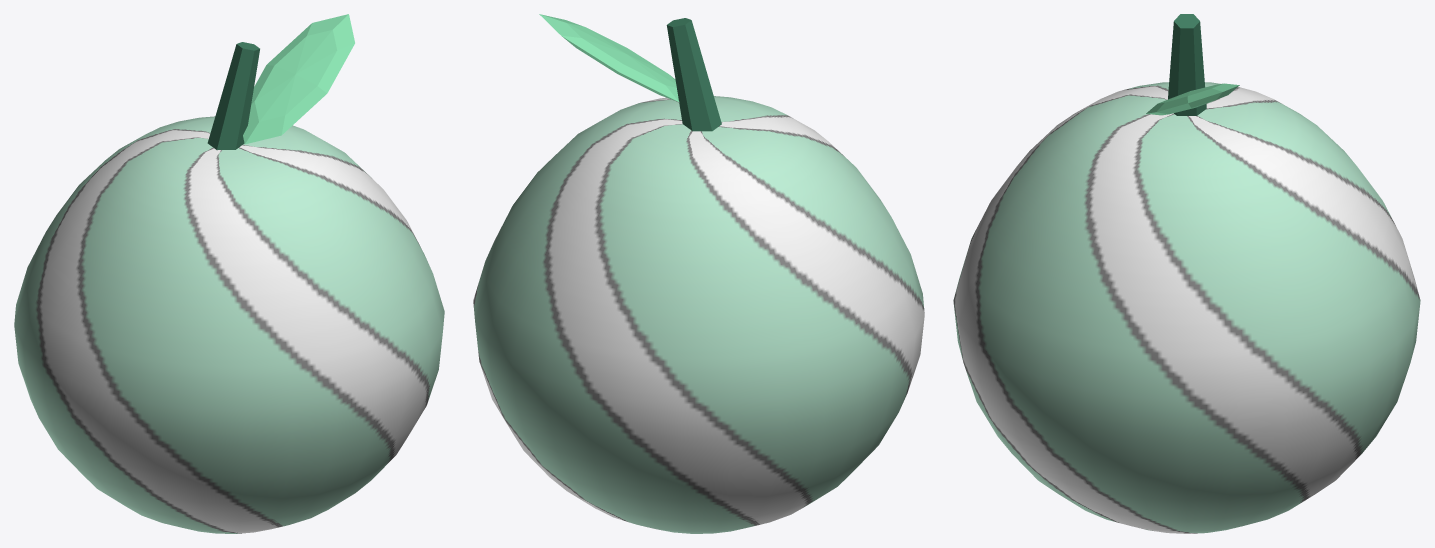
File: Fruit_Gust.fbx
3 views of the same model, side by side, from view 1: azimuth 30°, elevation 25°; view 2: azimuth 150°, elevation 25°; view 3: azimuth 270°, elevation 25° (orthographic). The views are drawn at different scales.
Visible parts, largest first — view 1: Fruit_Gust; view 2: Fruit_Gust; view 3: Fruit_Gust.
Part boxes in pixels (x1,y1,x2,y2): Fruit_Gust: [14, 14, 444, 533]; Fruit_Gust: [473, 14, 924, 533]; Fruit_Gust: [953, 14, 1420, 533].
Bounding box in the file's own units: 1.6 × 1.9 × 1.6.
Materials: 1 (1 with a texture image).
